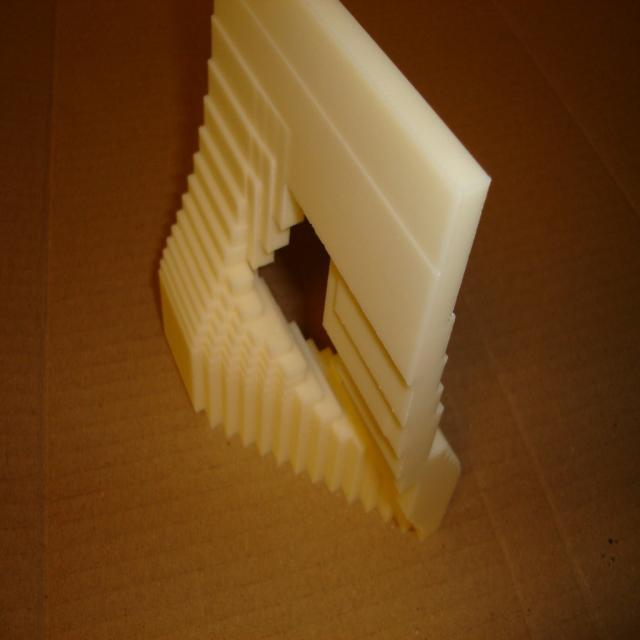Cheese: (157, 0, 495, 538)
